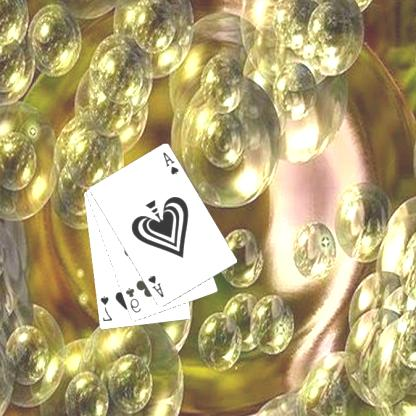6C: (124, 285, 144, 314)
7S: (100, 293, 116, 323)
AS: (147, 273, 167, 299), (162, 150, 182, 176)
